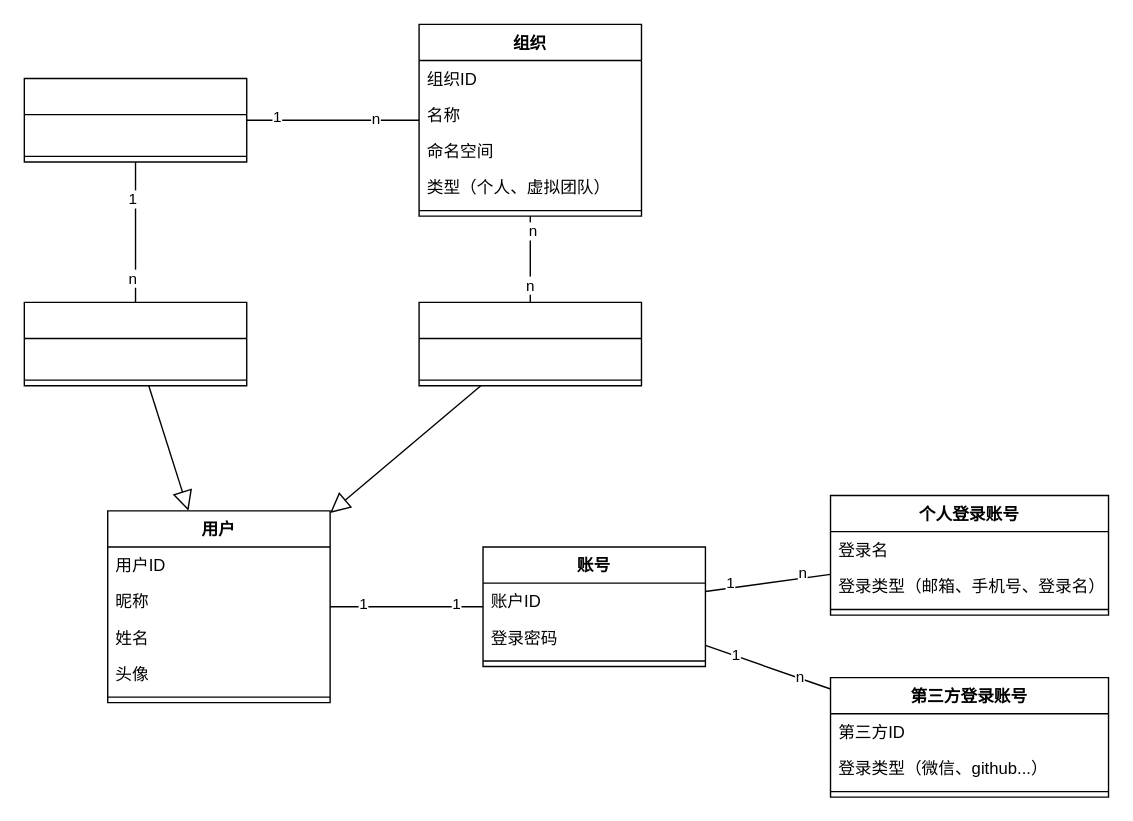
The diagram is 1133 pixels wide and 821 high, and some of its shapes have lost their labels. The shapes that lost their labels are listed below. From the top down, each one's centre as x and y in pixels, then its label:
At point 135,119: "租户".
At point 135,343: "管理者".
At point 529,343: "开发者".
